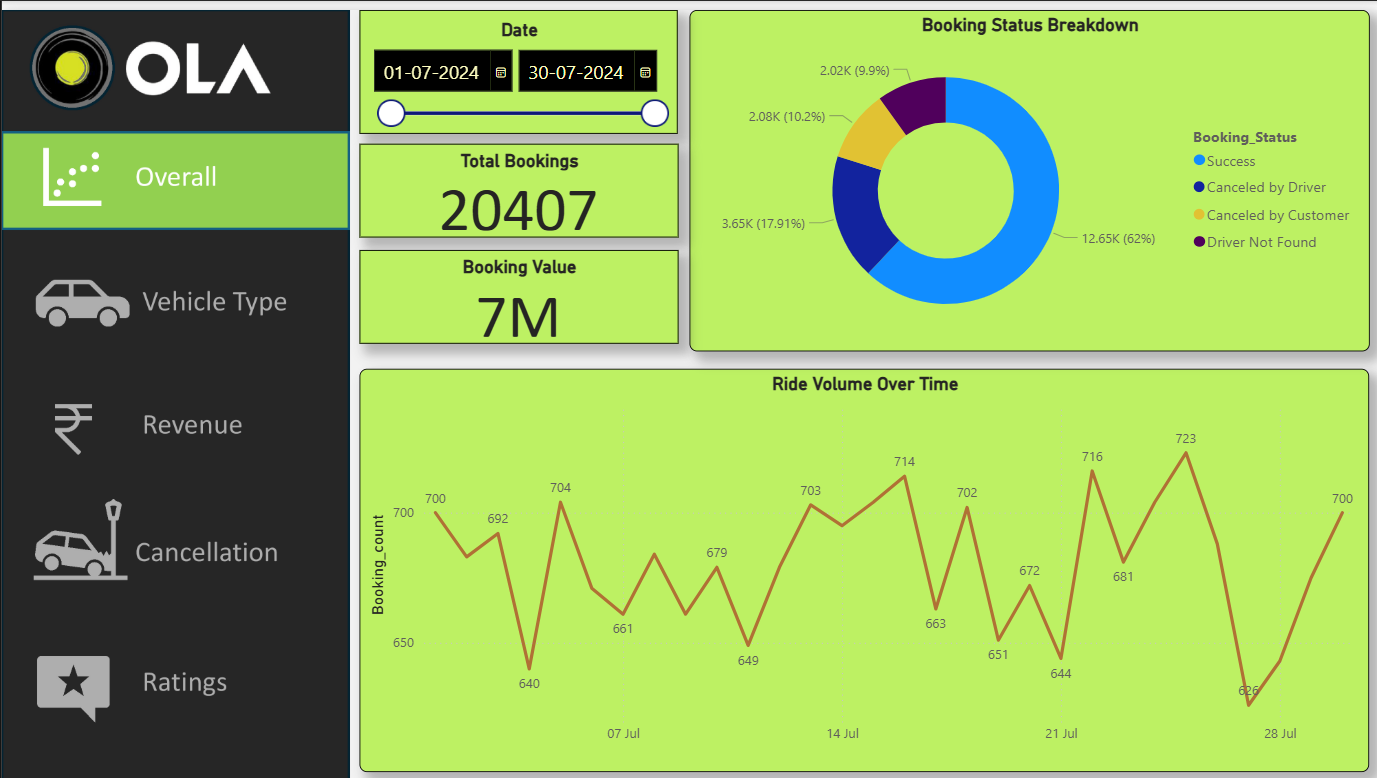

This screenshot's page, from the dashboard's own definition file:
{"tool":"powerbi","page":{"name":"Overall","canvas":[1280,720],"ordinal":0},"visuals":[{"type":"actionButton","box":[0,223.4,323.3,94.1],"z":0},{"type":"actionButton","box":[0,333.5,323.3,94.1],"z":1},{"type":"actionButton","box":[0,454.8,323.3,94.1],"z":2},{"type":"actionButton","box":[0,578.5,323.3,94.1],"z":3},{"type":"lineChart","title":" Ride Volume Over Time","fields":{"Category":["booking.Date.Variation.Date Hierarchy.Year","booking.Date.Variation.Date Hierarchy.Quarter","booking.Date.Variation.Date Hierarchy.Month","booking.Date.Variation.Date Hierarchy.Day"],"Y":["CountNonNull(booking.Booking_ID)"]},"box":[332.6,333.7,939.5,375.6],"z":4},{"type":"donutChart","title":"Booking Status Breakdown","fields":{"Category":["booking.Booking_Status"],"Y":["CountNonNull(booking.Booking_Status)"]},"box":[639.5,0,632.6,317.4],"z":5},{"type":"slicer","title":"Date","fields":{"Values":["booking.Date"]},"box":[332.1,0,296.4,115.3],"z":6},{"type":"card","title":"Total Bookings","fields":{"Values":["Count(booking.Booking_ID)"]},"box":[332.6,124.4,296.5,87.2],"z":7},{"type":"card","title":"Booking Value","fields":{"Values":["Sum(booking.Booking_Value)"]},"box":[332.6,223.3,296.5,87.2],"z":8}]}

Visuals, with their boxes in screenshot pixels (x1, y1, x2, y2), scaled from the page's 1280x720 canvas onto the 1377x778 screenshot:
actionButton: box(0, 241, 348, 343)
actionButton: box(0, 360, 348, 462)
actionButton: box(0, 491, 348, 593)
actionButton: box(0, 625, 348, 727)
" Ride Volume Over Time" lineChart: box(358, 361, 1369, 766)
"Booking Status Breakdown" donutChart: box(688, 0, 1369, 343)
"Date" slicer: box(357, 0, 676, 125)
"Total Bookings" card: box(358, 134, 677, 229)
"Booking Value" card: box(358, 241, 677, 336)
